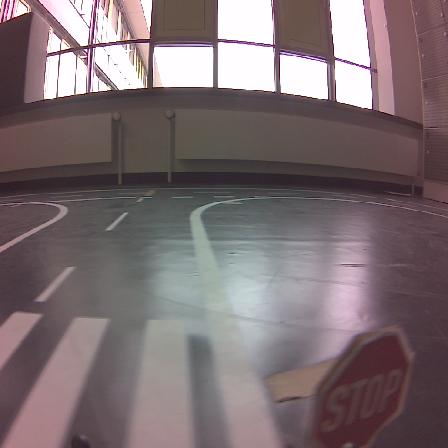STOP: (310, 327, 412, 447)
